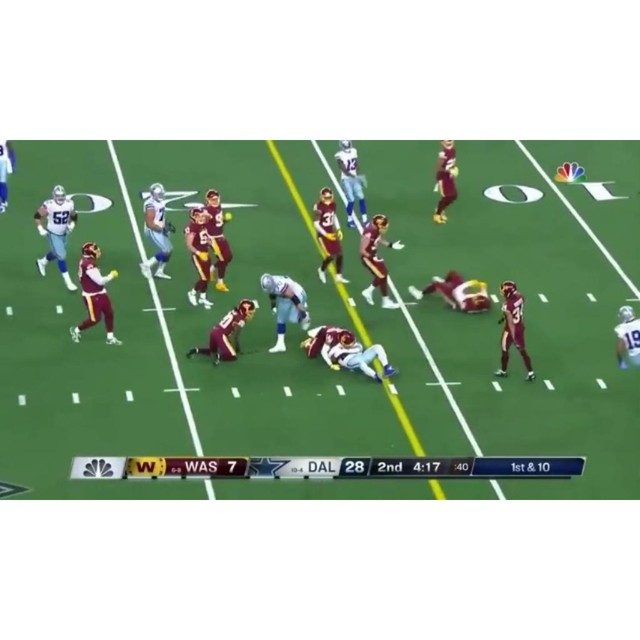american-football-player: (70, 242, 122, 346), (184, 299, 259, 367), (32, 184, 79, 291), (359, 213, 404, 311), (493, 283, 537, 381), (260, 273, 311, 354), (412, 269, 495, 314), (312, 190, 349, 287), (201, 188, 234, 295), (183, 208, 217, 310), (138, 186, 175, 279), (334, 140, 370, 232), (431, 141, 460, 225), (0, 141, 16, 213)
